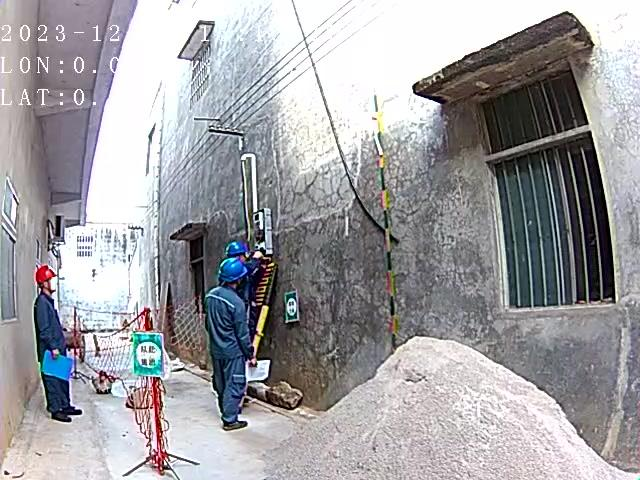halt: (221, 261, 252, 289), (36, 268, 61, 296), (229, 245, 253, 263)
